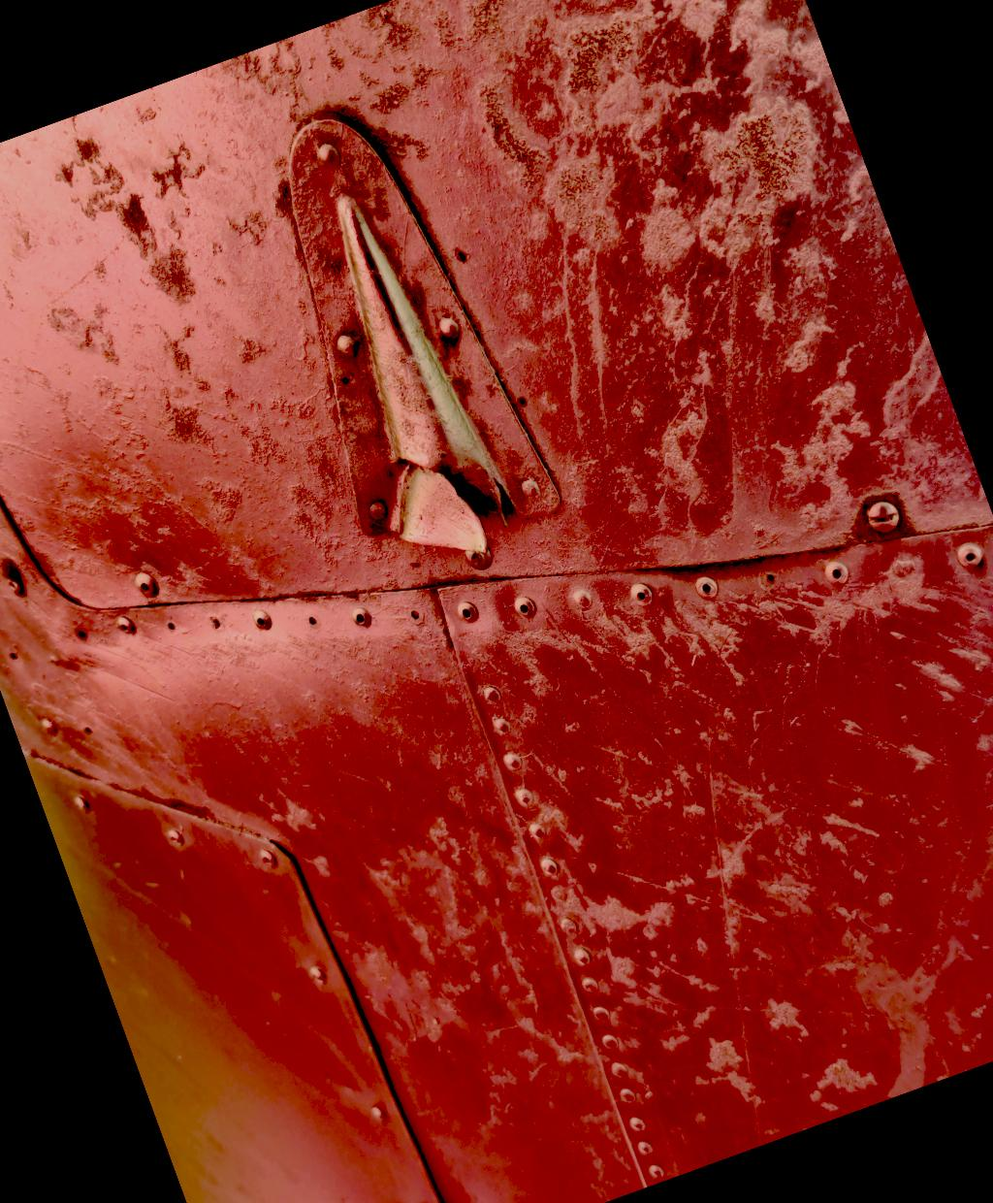crack: (315, 360, 555, 619)
